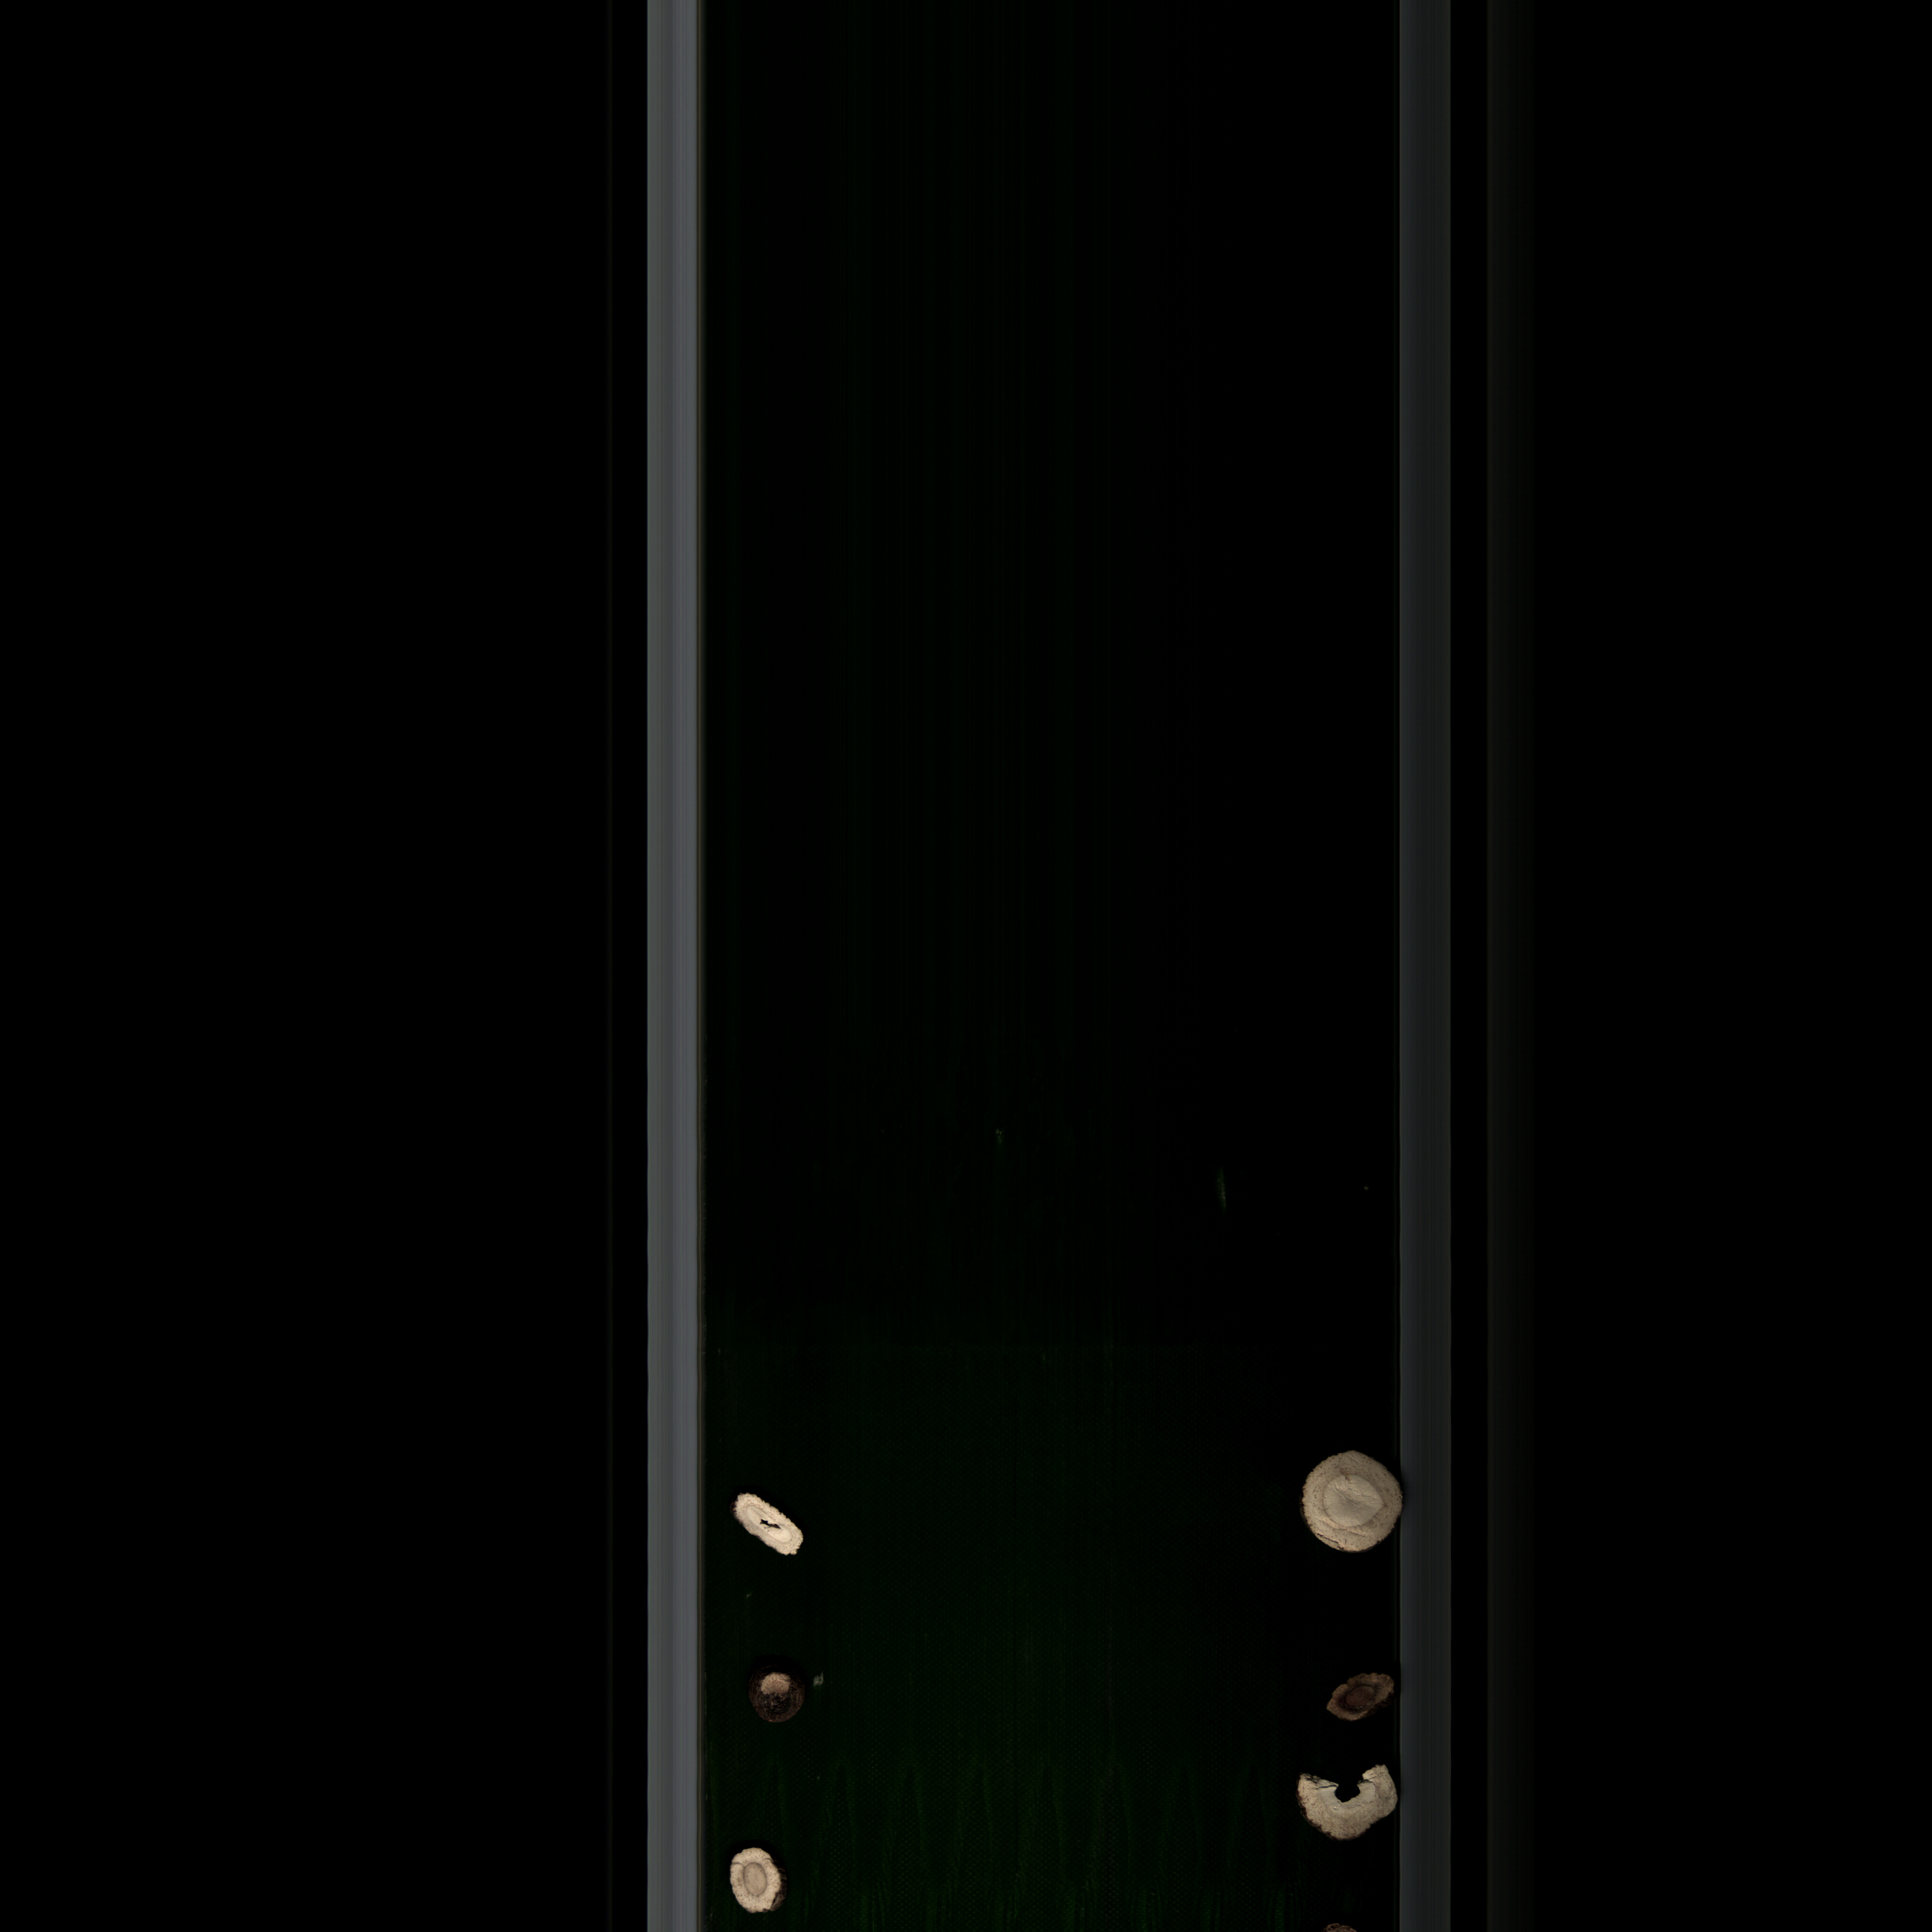bark: (727, 1652, 846, 1725), (1309, 1652, 1401, 1732)
debris: (1274, 1760, 1403, 1851)
hole: (722, 1486, 819, 1571)
